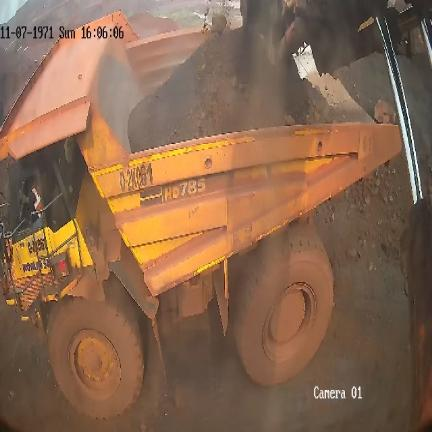pile: (126, 25, 342, 154)
